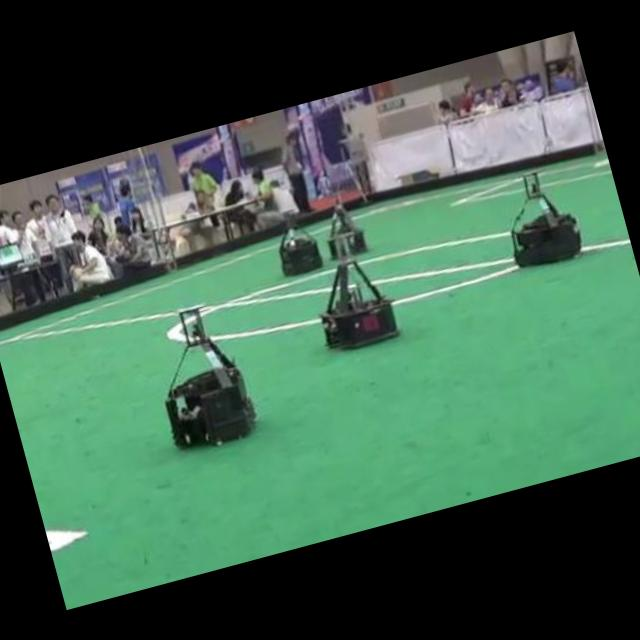robot: (165, 307, 256, 448), (322, 232, 399, 349), (510, 172, 580, 266), (279, 212, 323, 276), (328, 204, 367, 258)
